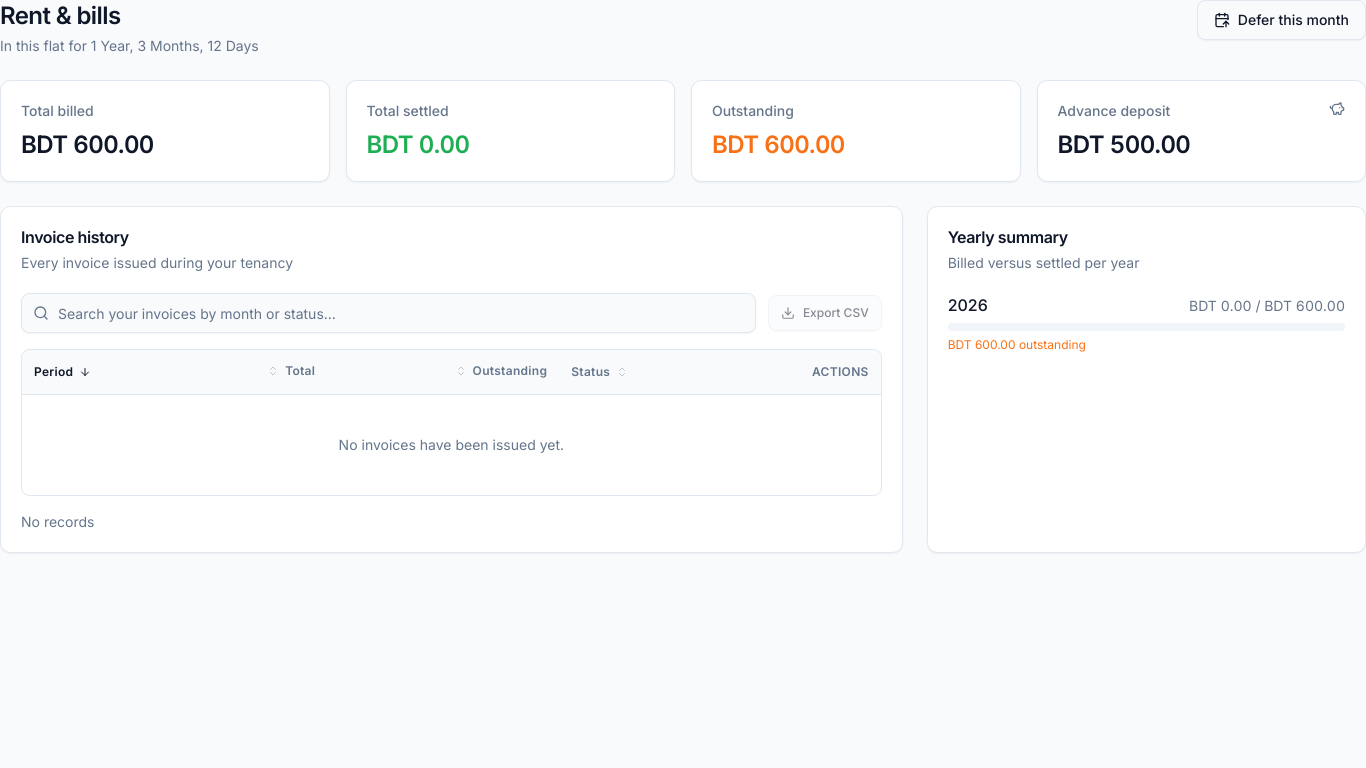
Test: RentPage — deferral flow (QA matrix 7.2) › previews a 500-advance / 600-bill split before confirming
The width and height of the screenshot is (1366, 768).
Step 1. Click the button "Defer this month" → click(1281, 20), box top-left (1197, 0), bottom-right (1365, 40)
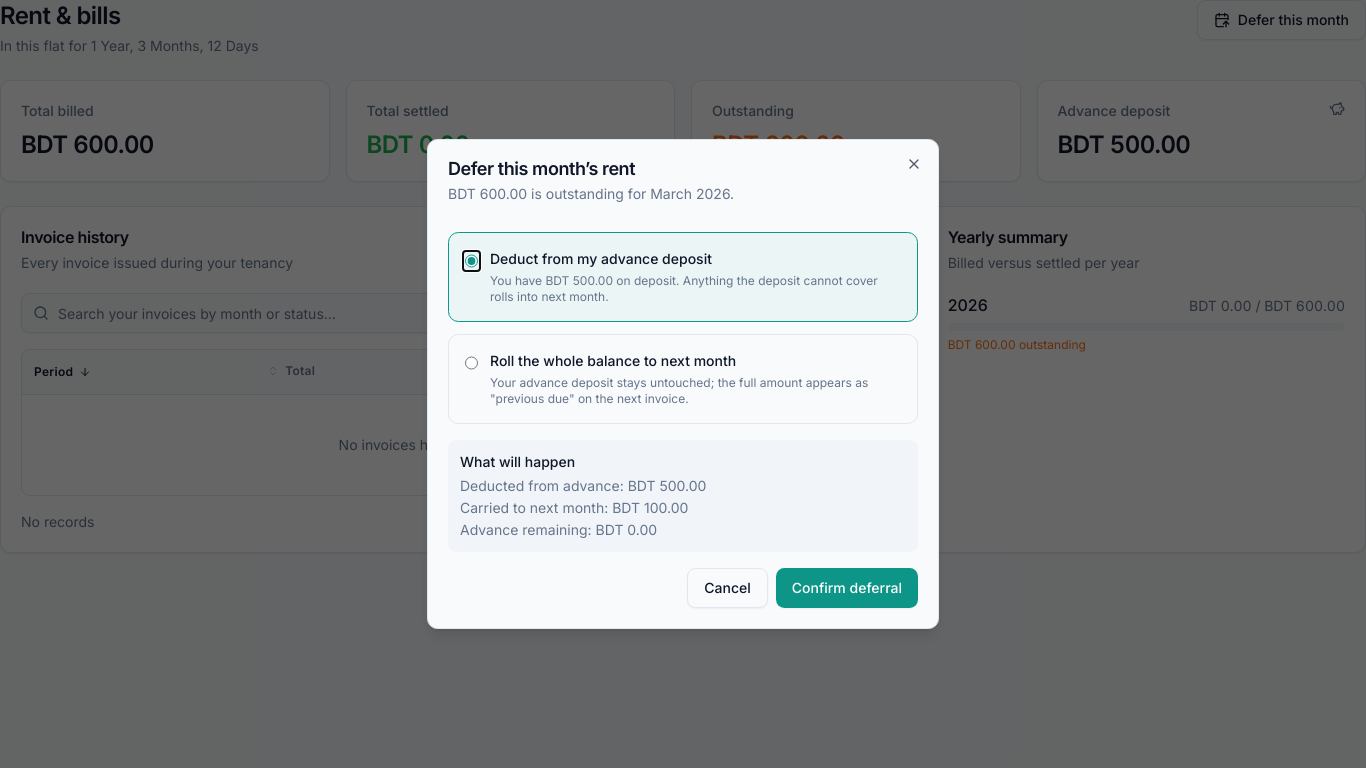
Now the list item "Deducted from advance: BDT 500.00" is shown, box top-left (460, 477), bottom-right (706, 494)
Now the list item "Carried to next month: BDT 100.00" is shown, box top-left (460, 499), bottom-right (688, 516)
Now the list item "Advance remaining: BDT 0.00" is shown, box top-left (460, 521), bottom-right (657, 538)
